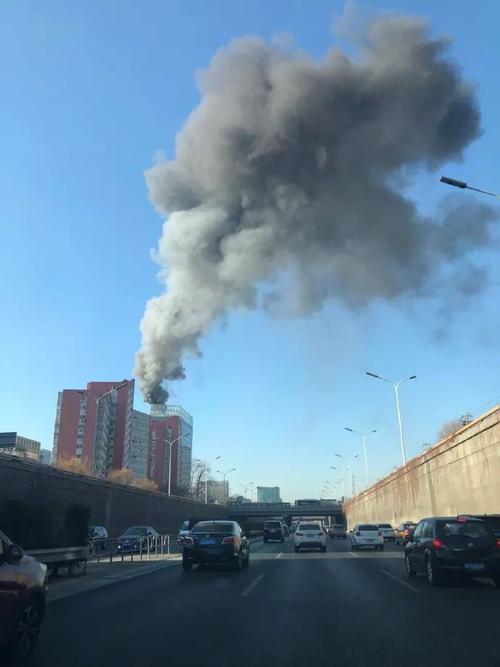smoke: (139, 32, 499, 321)
